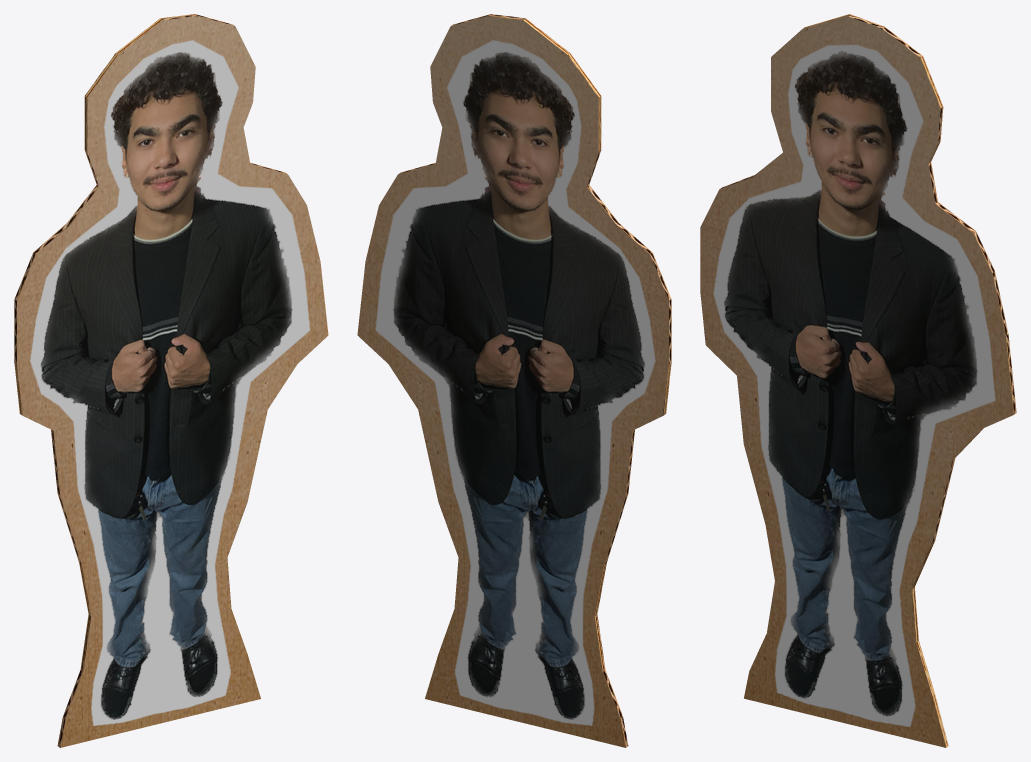
Rendered from Carlos Target.fbx.
The picture shows the model from 3 angles, left to right: view 1: azimuth 30°, elevation 25°; view 2: azimuth 150°, elevation 25°; view 3: azimuth 330°, elevation 25°; orthographic projection.
Visible parts, largest first — view 1: Cube; view 2: Cube; view 3: Cube.
Boxes of the visible parts, x1=… form: Cube: x1=14, y1=14, x2=328, y2=747; Cube: x1=357, y1=14, x2=671, y2=747; Cube: x1=700, y1=14, x2=1016, y2=747.
Size of the model in its own units: 218 by 471 by 3.25.
